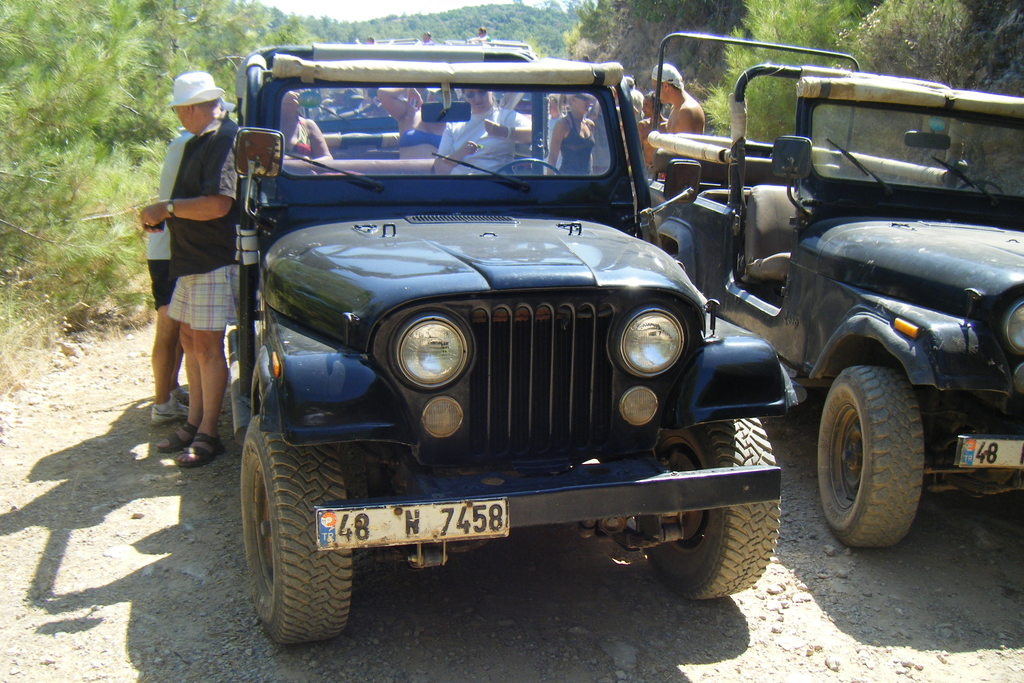Person: (137, 27, 703, 466)
